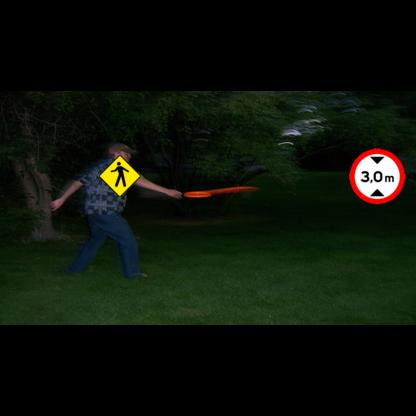A-32a: (98, 154, 141, 198)
R-15: (349, 148, 405, 204)
